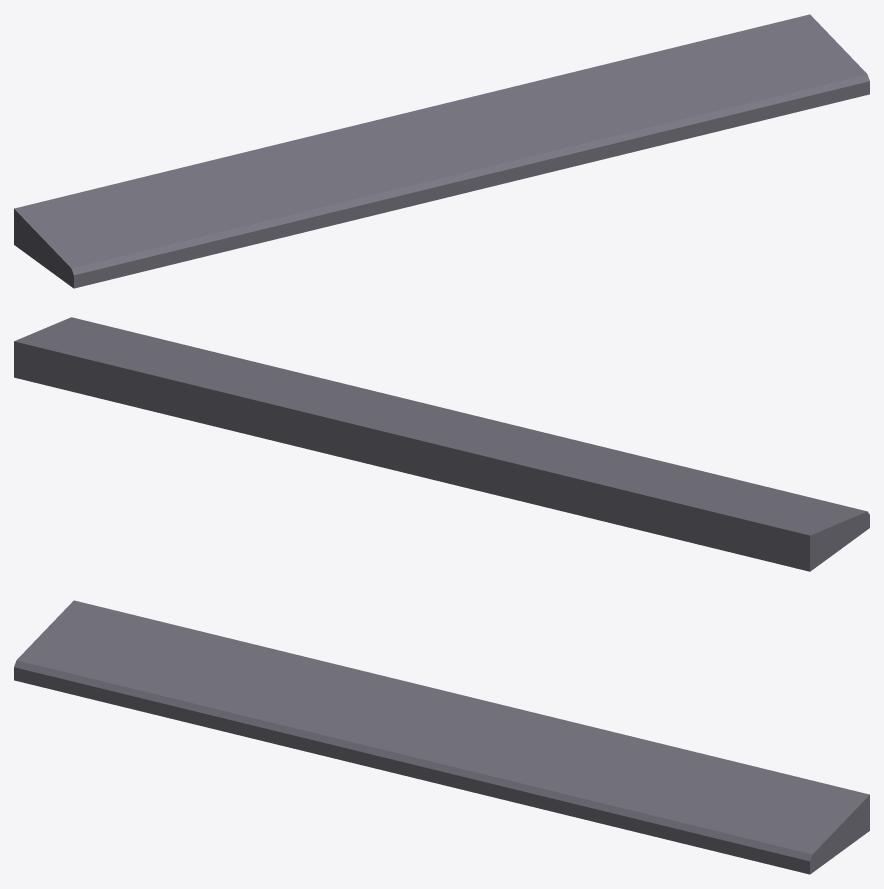
File: SM_Fixture_Canopy25611_01.gltf
3 renders of one model, top to bottom at view 1: azimuth 30°, elevation 25°; view 2: azimuth 150°, elevation 25°; view 3: azimuth 330°, elevation 25°, orthographic.
Visible parts, largest first — view 1: SM_Fixture_Canopy25611_01; view 2: SM_Fixture_Canopy25611_01; view 3: SM_Fixture_Canopy25611_01.
Part boxes in pixels (x1,y1,x2,y2): SM_Fixture_Canopy25611_01: (14, 14, 869, 288); SM_Fixture_Canopy25611_01: (14, 317, 869, 571); SM_Fixture_Canopy25611_01: (14, 600, 869, 874).
Bounding box in the file's own units: 2.84 × 0.1234 × 0.37.
Materials: 1 (1 with a texture image).
